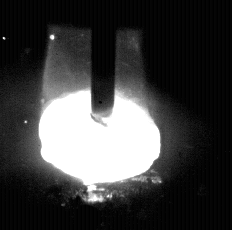arame: (92, 0, 116, 127)
poca: (37, 0, 161, 230)
